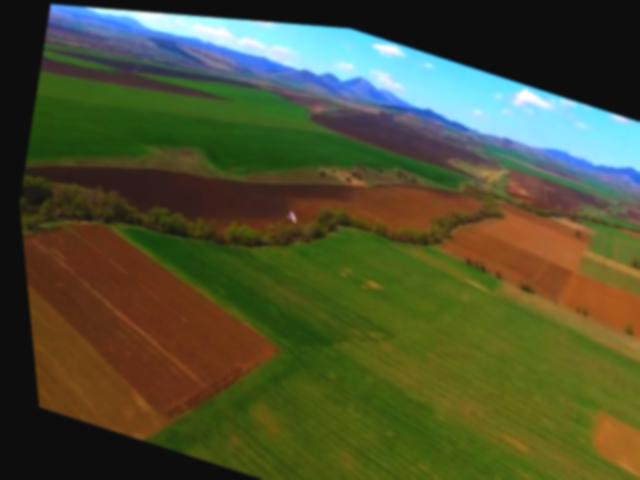uav: (274, 198, 302, 226)
